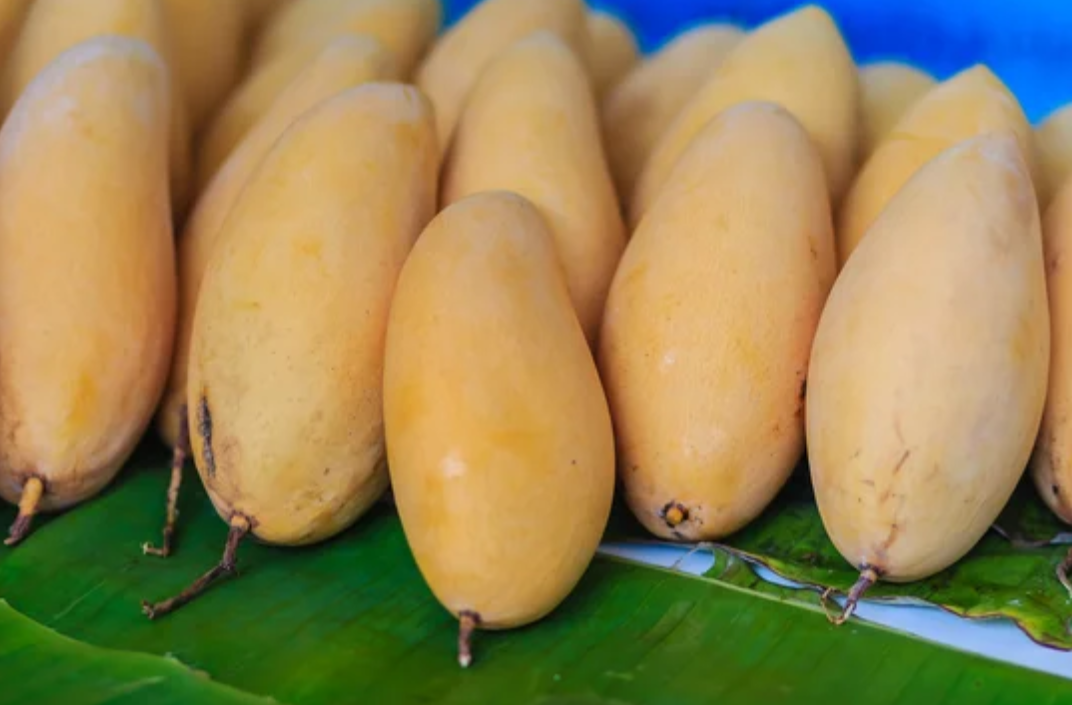mango: (184, 74, 439, 549), (800, 119, 1053, 583), (594, 99, 835, 537), (385, 194, 615, 630)
